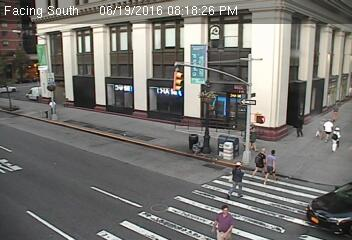neg: (221, 132, 242, 159), (336, 72, 350, 92), (308, 54, 322, 72), (289, 46, 302, 64)
pos: (223, 159, 252, 198), (210, 201, 238, 238), (259, 149, 282, 180), (326, 124, 347, 152), (290, 111, 310, 137), (318, 114, 338, 140), (251, 146, 270, 171), (245, 126, 261, 147), (46, 95, 59, 113), (329, 104, 341, 120)
